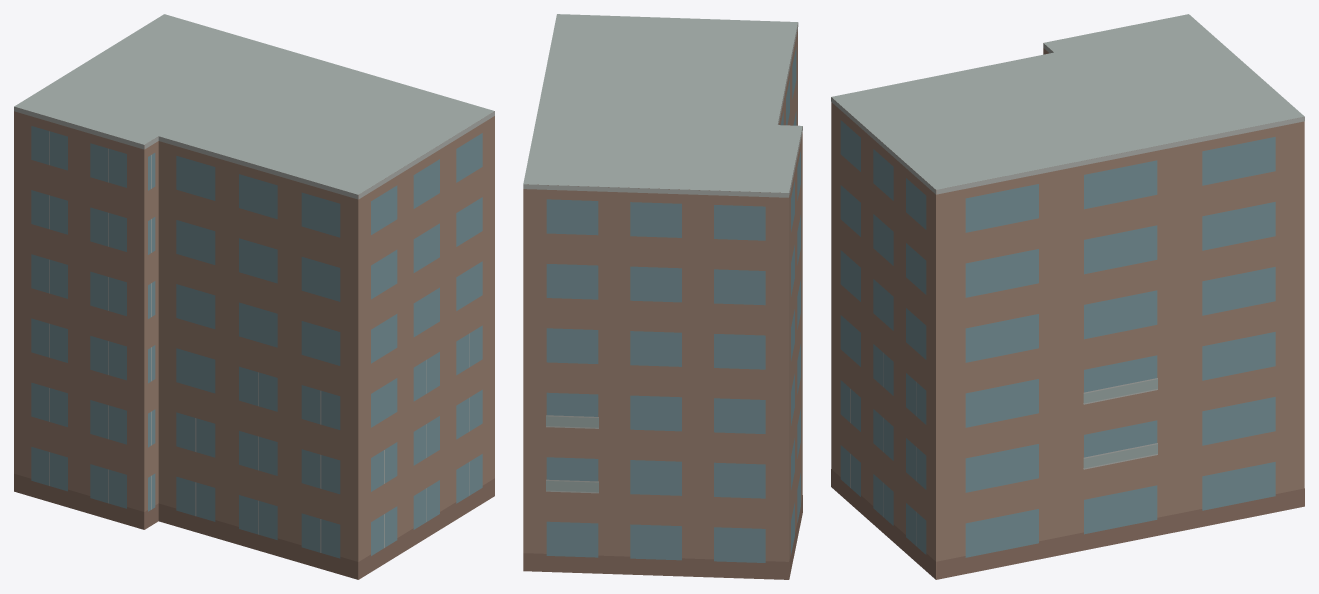
Rendered from survey-upis-32739763.glb.
3 renders of one model, left to right at view 1: azimuth 30°, elevation 25°; view 2: azimuth 150°, elevation 25°; view 3: azimuth 270°, elevation 25°, orthographic.
Visible parts, largest first — view 1: survey-upis-32739763.tmp; view 2: survey-upis-32739763.tmp; view 3: survey-upis-32739763.tmp.
Part boxes in pixels (x1,y1,x2,y2): survey-upis-32739763.tmp: [14, 14, 494, 579]; survey-upis-32739763.tmp: [523, 14, 802, 579]; survey-upis-32739763.tmp: [831, 14, 1304, 579].
Size of the model in its own units: 19.21 by 19.85 by 21.86.
